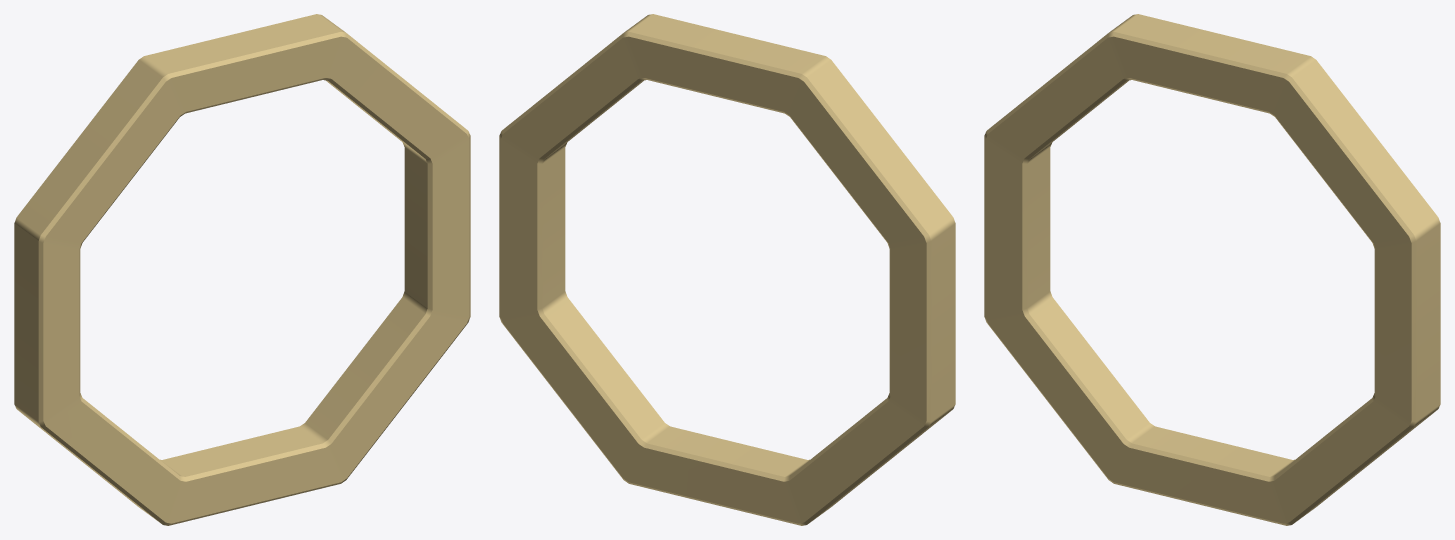
The model's file is circa.fbx.
The picture shows the model from 3 angles, left to right: view 1: azimuth 30°, elevation 25°; view 2: azimuth 150°, elevation 25°; view 3: azimuth 330°, elevation 25°; orthographic projection.
Parts seen in each view (by area): view 1: circa; view 2: circa; view 3: circa.
Boxes of the visible parts, x1=… form: circa: x1=14, y1=14, x2=470, y2=525; circa: x1=499, y1=14, x2=955, y2=525; circa: x1=984, y1=14, x2=1440, y2=525.
Bounding box in the file's own units: 8.69 × 8.69 × 0.9658.
